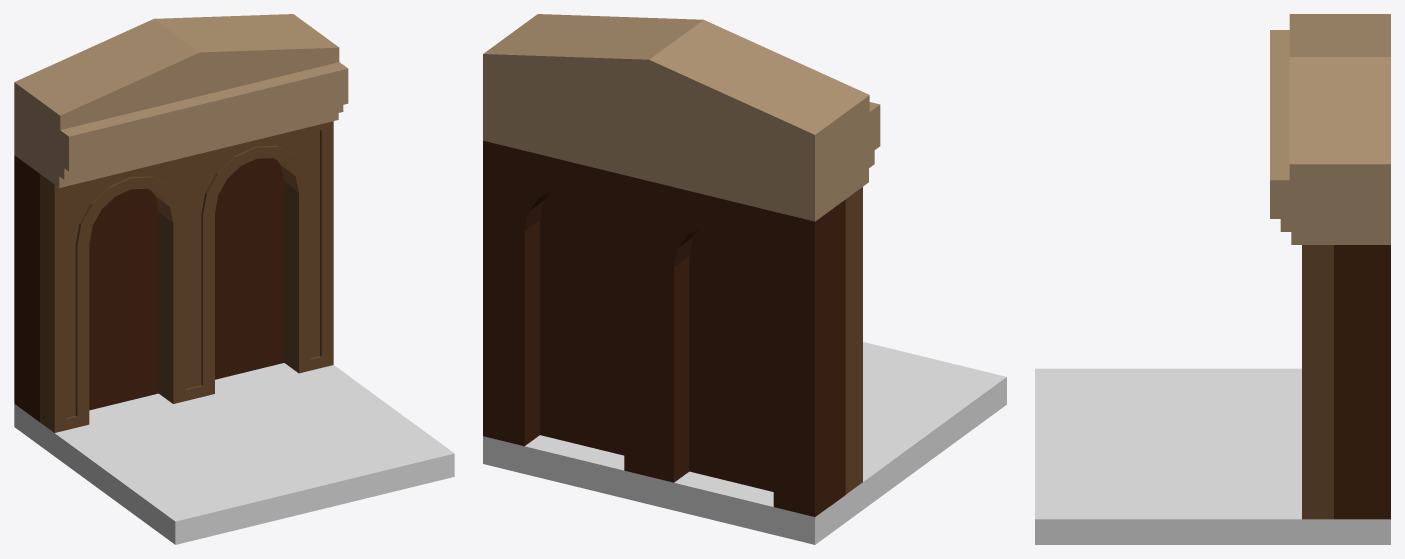
Rendered from tile1wallC.fbx.
The picture shows the model from 3 angles, left to right: view 1: azimuth 30°, elevation 25°; view 2: azimuth 150°, elevation 25°; view 3: azimuth 270°, elevation 25°; orthographic projection. The views are drawn at different scales.
Parts seen in each view (by area): view 1: Cube, Cube.002, Cube.003, Cube.001, Cube.005; view 2: Cube.005, Cube.003, Cube.001, Cube, Cube.002; view 3: Cube, Cube.003, Cube.002, Cube.005, Cube.001.
Part boxes in pixels (left/top/right/bottom): Cube: left=14, top=363, right=454, bottom=544; Cube.002: left=40, top=121, right=333, bottom=432; Cube.003: left=14, top=14, right=348, bottom=187; Cube.001: left=27, top=158, right=284, bottom=422; Cube.005: left=14, top=155, right=26, bottom=412; Cube.005: left=483, top=140, right=830, bottom=516; Cube.003: left=483, top=14, right=880, bottom=221; Cube.001: left=540, top=190, right=845, bottom=505; Cube: left=483, top=342, right=1006, bottom=544; Cube.002: left=845, top=187, right=862, bottom=494; Cube: left=1035, top=368, right=1390, bottom=544; Cube.003: left=1270, top=14, right=1390, bottom=244; Cube.002: left=1302, top=245, right=1333, bottom=519; Cube.005: left=1362, top=245, right=1390, bottom=519; Cube.001: left=1334, top=245, right=1362, bottom=519.
Size of the model in its own units: 500 by 640 by 500.
